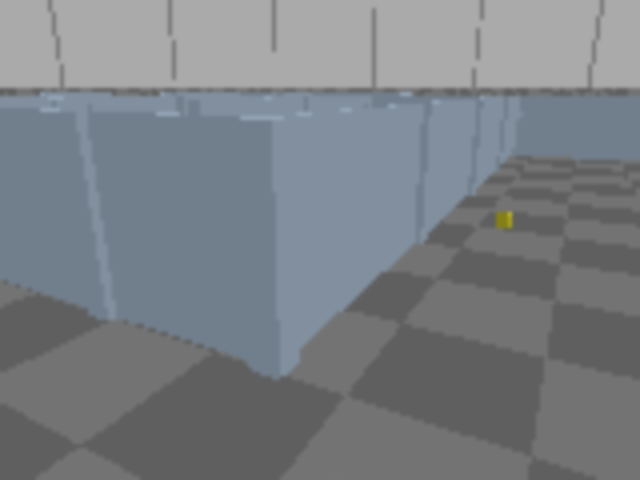obstacle: (32, 469, 463, 478)
puck: (495, 210, 514, 229)
